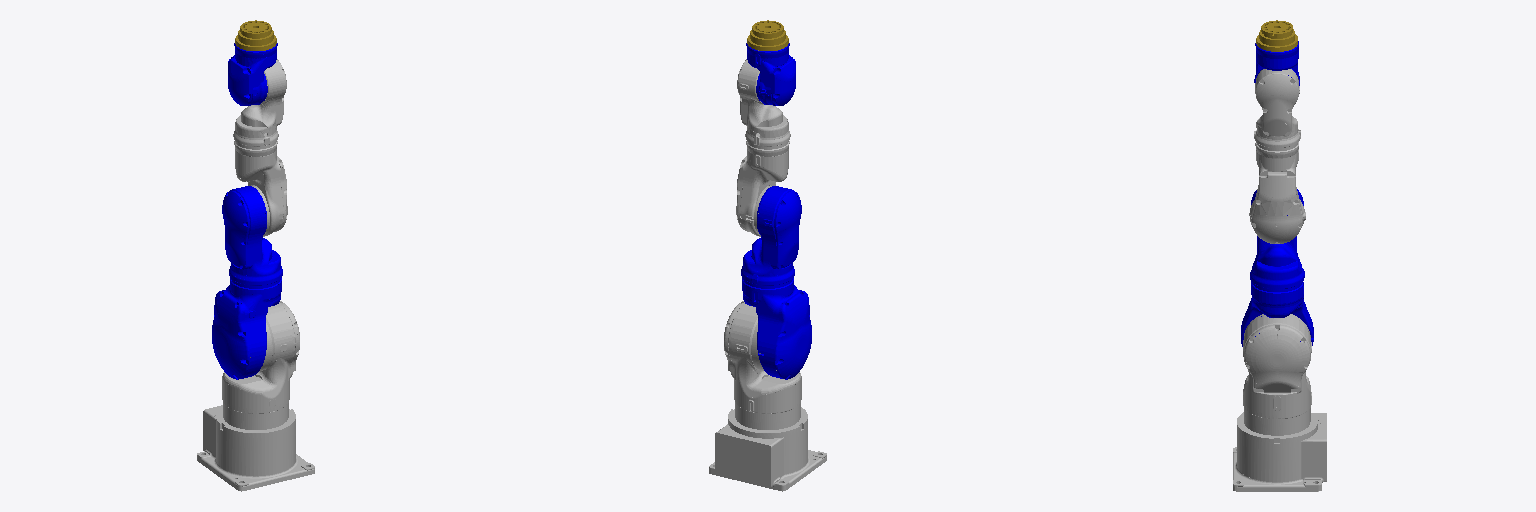
URDF robot description (sia10):
<?xml version="1.0" encoding="UTF-8" ?>
<robot name="sia10">
    <link name="base_link">
        <visual>
            <geometry>
                <mesh filename="package://sia10_simple_description/meshes/visual/base_link.stl" />
            </geometry>
            <material name="link_color_bl">
                <color rgba="0.75 0.75 0.75 1" />
            </material>
        </visual>
        <collision>
            <geometry>
                <mesh filename="package://sia10_simple_description/meshes/collision/base_link_c.stl" />
            </geometry>
            <material name="collision_color_bl">
                <color rgba="0 1 1 1" />
            </material>
        </collision>
    </link>
    <link name="link_s">
        <visual>
            <geometry>
                <mesh filename="package://sia10_simple_description/meshes/visual/link_s.stl" />
            </geometry>
            <material name="link_color_ls">
                <color rgba="0.75 0.75 0.75 1" />
            </material>
        </visual>
        <collision>
            <geometry>
                <mesh filename="package://sia10_simple_description/meshes/collision/link_s_c.stl" />
            </geometry>
            <material name="collision_color_ls">
                <color rgba="0 1 1 1" />
            </material>
        </collision>
    </link>
    <link name="link_l">
        <visual>
            <geometry>
                <mesh filename="package://sia10_simple_description/meshes/visual/link_l.stl" />
            </geometry>
            <material name="link_color_ll">
                <color rgba="0 0 1 1" />
            </material>
        </visual>
        <collision>
            <geometry>
                <mesh filename="package://sia10_simple_description/meshes/collision/link_l_c.stl" />
            </geometry>
            <material name="collision_color_ll">
                <color rgba="0 1 1 1" />
            </material>
        </collision>
    </link>
    <link name="link_e">
        <visual>
            <geometry>
                <mesh filename="package://sia10_simple_description/meshes/visual/link_e.stl" />
            </geometry>
            <material name="link_color_le">
                <color rgba="0 0 1 1" />
            </material>
        </visual>
        <collision>
            <geometry>
                <mesh filename="package://sia10_simple_description/meshes/collision/link_e_c.stl" />
            </geometry>
            <material name="collision_color_le">
                <color rgba="0 1 1 1" />
            </material>
        </collision>
    </link>
    <link name="link_u">
        <visual>
            <geometry>
                <mesh filename="package://sia10_simple_description/meshes/visual/link_u.stl" />
            </geometry>
            <material name="link_color_lu">
                <color rgba="0.75 0.75 0.75 1" />
            </material>
        </visual>
        <collision>
            <geometry>
                <mesh filename="package://sia10_simple_description/meshes/collision/link_u_c.stl" />
            </geometry>
            <material name="collision_color_lu">
                <color rgba="0 1 1 1" />
            </material>
        </collision>
    </link>
    <link name="link_r">
        <visual>
            <geometry>
                <mesh filename="package://sia10_simple_description/meshes/visual/link_r.stl" />
            </geometry>
            <material name="link_color_lr">
                <color rgba="0.75 0.75 0.75 1" />
            </material>
        </visual>
        <collision>
            <geometry>
                <mesh filename="package://sia10_simple_description/meshes/collision/link_r_c.stl" />
            </geometry>
            <material name="collision_color_lr">
                <color rgba="0 1 1 1" />
            </material>
        </collision>
    </link>
    <link name="link_b">
        <visual>
            <geometry>
                <mesh filename="package://sia10_simple_description/meshes/visual/link_b.stl" />
            </geometry>
            <material name="link_color_lb">
                <color rgba="0 0 1 1" />
            </material>
        </visual>
        <collision>
            <geometry>
                <mesh filename="package://sia10_simple_description/meshes/collision/link_b_c.stl" />
            </geometry>
            <material name="collision_color_lb">
                <color rgba="0 1 1 1" />
            </material>
        </collision>
    </link>
    <link name="link_t">
        <visual>
            <geometry>
                <mesh filename="package://sia10_simple_description/meshes/visual/link_t.stl" />
            </geometry>
            <material name="link_color_lt">
                <color rgba="0.67 0.57 0.19 1" />
            </material>
        </visual>
        <collision>
            <geometry>
                <mesh filename="package://sia10_simple_description/meshes/collision/link_t_c.stl" />
            </geometry>
            <material name="link_color">
                <color rgba="0 1 1 1" />
            </material>
        </collision>
    </link>


    <joint name="joint_s" type="revolute">
        <parent link="base_link" />
        <child link="link_s" />
        <origin xyz="0 0 0.18" rpy="0 0 0" />
        <axis xyz="0 0 1" />
        <limit effort="0" lower="-3.13" upper="3.13" velocity="2.95" />
    </joint>
    <joint name="joint_l" type="revolute">
        <parent link="link_s" />
        <child link="link_l" />
        <origin xyz="0 0 0.18" rpy="0 0 0" />
        <axis xyz="1 0 0" />
        <limit effort="0" lower="-1.90" upper="1.9" velocity="2.95" />
    </joint>
    <joint name="joint_e" type="revolute">
        <parent link="link_l" />
        <child link="link_e" />
        <origin xyz="0 0 0.18" rpy="0 0 0" />
        <axis xyz="0 0 1" />
        <limit effort="0" lower="-2.95" upper="2.95" velocity="2.95" />
    </joint>
    <joint name="joint_u" type="revolute">
        <parent link="link_e" />
        <child link="link_u" />
        <origin xyz="0 0 0.18" rpy="0 0 0" />
        <axis xyz="-1 0 0" />
        <limit effort="0" lower="-2.36" upper="2.36" velocity="2.95" />
    </joint>
    <joint name="joint_r" type="revolute">
        <parent link="link_u" />
        <child link="link_r" />
        <origin xyz="0 0 0.18" rpy="0 0 0" />
        <axis xyz="0 0 -1" />
        <limit effort="0" lower="-3.13" upper="3.13" velocity="3.48" />
    </joint>
    <joint name="joint_b" type="revolute">
        <parent link="link_r" />
        <child link="link_b" />
        <origin xyz="0 0 0.18" rpy="0 0 0" />
        <axis xyz="-1 0 0" />
        <limit effort="0" lower="-1.90" upper="1.9" velocity="3.48" />
    </joint>
    <joint name="joint_t" type="revolute">
        <parent link="link_b" />
        <child link="link_t" />
        <origin xyz="0 0 0.155" rpy="0 0 0" />
        <axis xyz="0 0 -1" />
        <limit effort="0" lower="-3.14" upper="3.14" velocity="6.97" />
    </joint>
</robot>

--- Render facts (derived) ---
3 views of the same robot in one strip: view 1: azimuth 30°, elevation 25°; view 2: azimuth 150°, elevation 25°; view 3: azimuth 270°, elevation 25° (orthographic).
Robot: sia10 — 8 links, 7 joints (7 revolute); root link base_link; default pose: all joints at 0.
Visible links, largest first — view 1: base_link, link_l, link_s, link_e, link_u, link_r, link_b, link_t; view 2: base_link, link_l, link_s, link_e, link_u, link_r, link_b, link_t; view 3: base_link, link_s, link_u, link_r, link_e, link_l, link_t, link_b.
Boxes of the visible links, box(x1,y1,x2,y2) form: base_link: box(197, 403, 314, 491); link_l: box(212, 275, 281, 379); link_s: box(222, 301, 299, 413); link_e: box(222, 186, 282, 288); link_u: box(234, 141, 287, 236); link_r: box(233, 59, 286, 149); link_b: box(228, 43, 277, 105); link_t: box(235, 20, 276, 50); base_link: box(709, 403, 826, 491); link_l: box(742, 271, 811, 379); link_s: box(724, 301, 801, 413); link_e: box(741, 186, 801, 288); link_u: box(736, 141, 789, 236); link_r: box(737, 59, 790, 149); link_b: box(746, 43, 795, 105); link_t: box(747, 20, 788, 50); base_link: box(1233, 394, 1326, 491); link_s: box(1243, 314, 1311, 418); link_u: box(1249, 142, 1305, 243); link_r: box(1254, 69, 1300, 150); link_e: box(1250, 189, 1304, 291); link_l: box(1241, 281, 1313, 346); link_t: box(1256, 20, 1297, 51); link_b: box(1254, 41, 1299, 85).
Bounding box of the posed robot: 0.225 × 0.2385 × 1.24 m (x, y, z).
8 mesh visuals loaded from 8 distinct referenced files (8 binary STL).